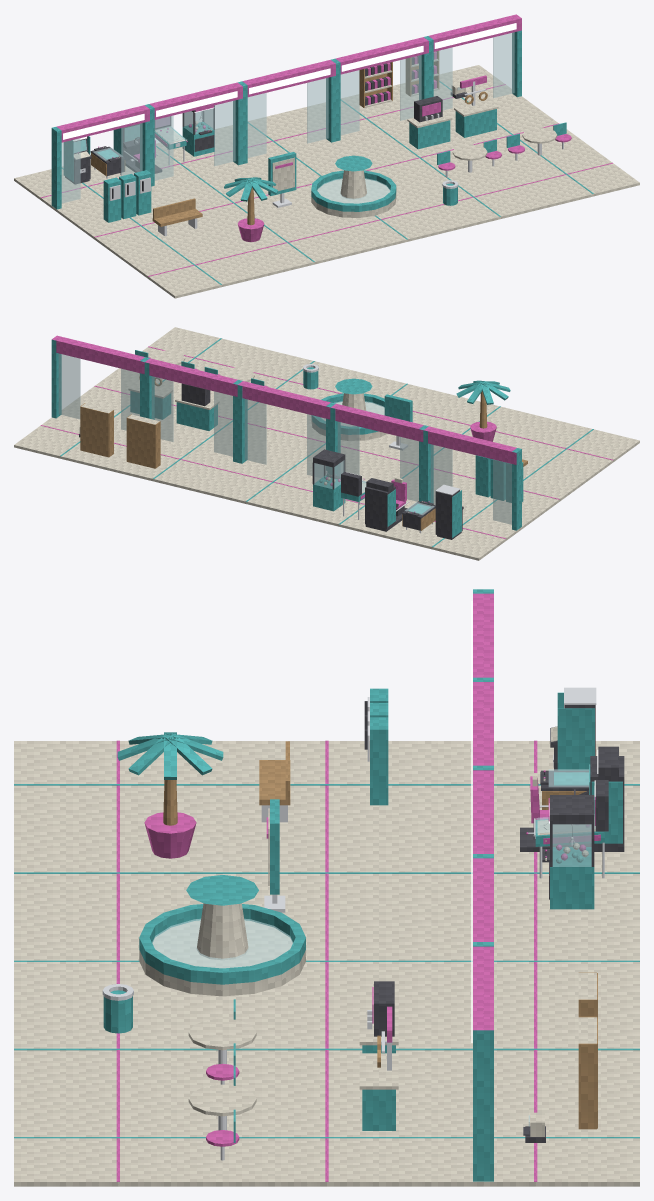
File: retro-arcade-and-mall-1989-mall-atrium-a-869348f7-starter-scene__15570.glb
The picture shows the model from 3 angles, top to bottom: view 1: azimuth 30°, elevation 25°; view 2: azimuth 150°, elevation 25°; view 3: azimuth 270°, elevation 25°; orthographic projection. The views are drawn at different scales.
Parts seen in each view (by area): view 1: 002-tile-floor/0, 014-tile-floor/0, 005-tile-floor/0, 011-tile-floor/0, 008-tile-floor/0, 006-tile-floor/0, 001-tile-floor/0, 010-tile-floor/0, 004-tile-floor/0, 009-tile-floor/0, 003-tile-floor/0, 013-tile-floor/0 (+49 smaller); view 2: 002-tile-floor/0, 006-tile-floor/0, 009-tile-floor/0, 000-tile-floor/0, 004-tile-floor/0, 012-tile-floor/0, 010-tile-floor/0, 005-tile-floor/0, 001-tile-floor/0, 007-tile-floor/0, 014-tile-floor/0, 011-tile-floor/0 (+39 smaller); view 3: 014-tile-floor/0, 013-tile-floor/0, 012-tile-floor/0, 011-tile-floor/0, 004-tile-floor/0, 006-tile-floor/0, 005-tile-floor/0, 001-tile-floor/0, 002-tile-floor/0, 009-tile-floor/0, 010-tile-floor/0, 007-tile-floor/0 (+30 smaller).
Boxes of the visible parts, bbox=[...] form: 002-tile-floor/0: bbox=[121, 234, 267, 298]; 014-tile-floor/0: bbox=[494, 143, 639, 207]; 005-tile-floor/0: bbox=[214, 211, 360, 275]; 011-tile-floor/0: bbox=[400, 166, 546, 230]; 008-tile-floor/0: bbox=[307, 189, 453, 252]; 006-tile-floor/0: bbox=[215, 110, 346, 171]; 001-tile-floor/0: bbox=[67, 195, 213, 258]; 010-tile-floor/0: bbox=[347, 134, 492, 188]; 004-tile-floor/0: bbox=[161, 172, 306, 233]; 009-tile-floor/0: bbox=[293, 93, 413, 149]; 003-tile-floor/0: bbox=[125, 142, 253, 194]; 013-tile-floor/0: bbox=[450, 104, 585, 165]; 002-tile-floor/0: bbox=[509, 418, 639, 481]; 006-tile-floor/0: bbox=[200, 451, 320, 515]; 009-tile-floor/0: bbox=[107, 428, 252, 492]; 000-tile-floor/0: bbox=[386, 499, 532, 560]; 004-tile-floor/0: bbox=[349, 437, 475, 494]; 012-tile-floor/0: bbox=[14, 406, 126, 469]; 010-tile-floor/0: bbox=[161, 391, 304, 450]; 005-tile-floor/0: bbox=[416, 395, 546, 445]; 001-tile-floor/0: bbox=[453, 465, 586, 520]; 007-tile-floor/0: bbox=[254, 413, 396, 472]; 014-tile-floor/0: bbox=[142, 327, 267, 374]; 011-tile-floor/0: bbox=[243, 350, 360, 399]; 014-tile-floor/0: bbox=[14, 1093, 222, 1186]; 013-tile-floor/0: bbox=[222, 1093, 431, 1186]; 012-tile-floor/0: bbox=[431, 1093, 639, 1186]; 011-tile-floor/0: bbox=[14, 1005, 222, 1093]; 004-tile-floor/0: bbox=[222, 829, 431, 917]; 006-tile-floor/0: bbox=[431, 917, 639, 1005]; 005-tile-floor/0: bbox=[14, 829, 222, 917]; 001-tile-floor/0: bbox=[222, 741, 431, 829]; 002-tile-floor/0: bbox=[14, 741, 222, 829]; 009-tile-floor/0: bbox=[431, 1005, 639, 1093]; 010-tile-floor/0: bbox=[222, 1005, 431, 1093]; 007-tile-floor/0: bbox=[222, 917, 431, 1005].
Size of the model in its own units: 20 by 3.31 by 12.
8 materials, 5 textured.
